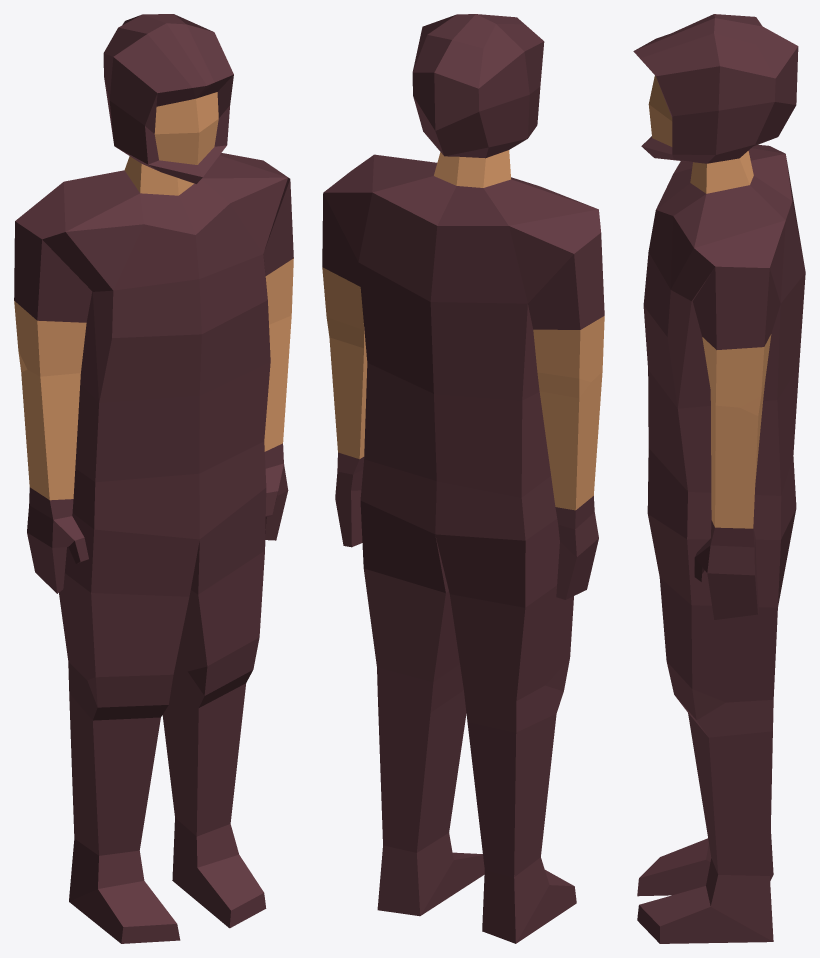
Rendered from man-football.fbx.
3 renders of one model, left to right at view 1: azimuth 30°, elevation 25°; view 2: azimuth 150°, elevation 25°; view 3: azimuth 270°, elevation 25°, orthographic.
Parts seen in each view (by area): view 1: man-football; view 2: man-football; view 3: man-football.
Boxes of the visible parts, x1=… form: man-football: x1=14, y1=14, x2=293, y2=943; man-football: x1=322, y1=14, x2=604, y2=943; man-football: x1=633, y1=14, x2=805, y2=943.
Bounding box in the file's own units: 0.5602 × 1.84 × 0.3233.
